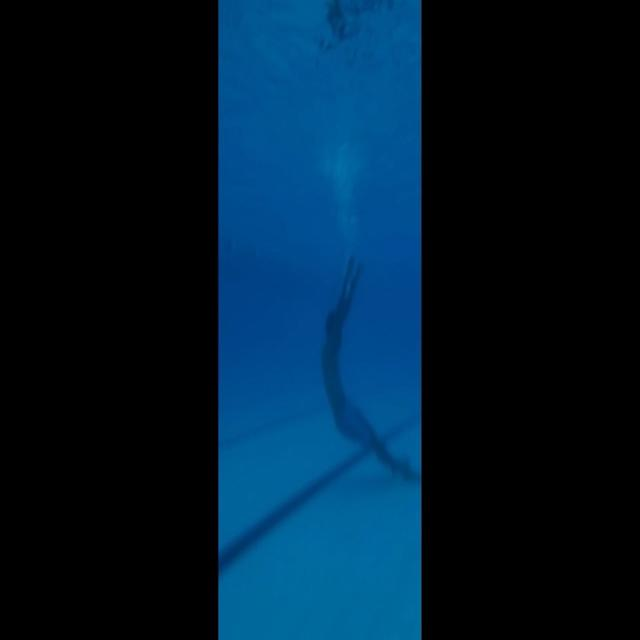drowning: (310, 260, 418, 510)
